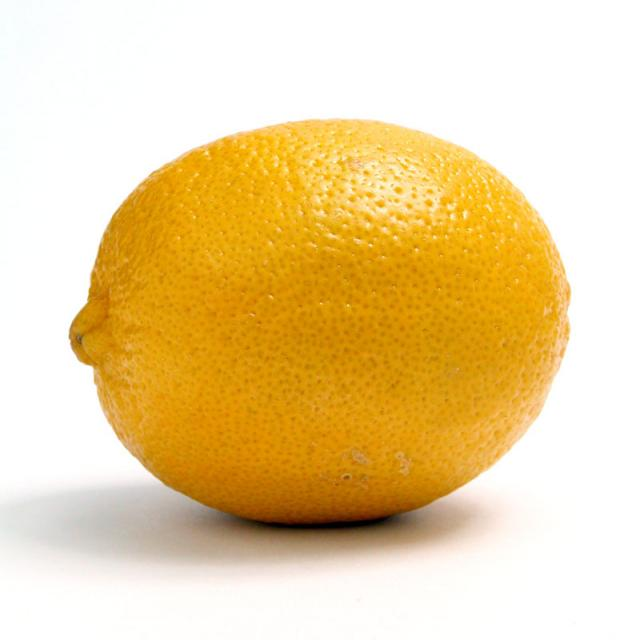lemon: (63, 111, 583, 531)
